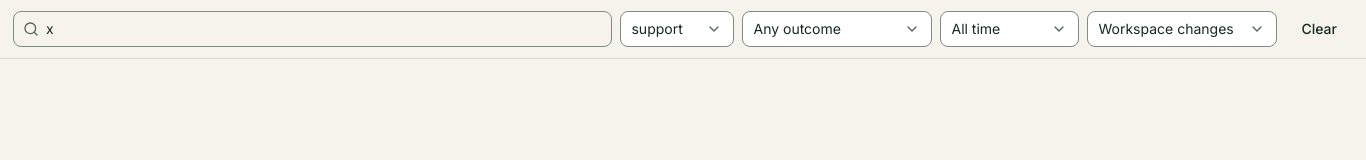
Test: ActivityFilters › clear empties the search and the URL
The image size is (1366, 160).
Click the button "Clear" at (1319, 29), box [1286,11,1353,47]
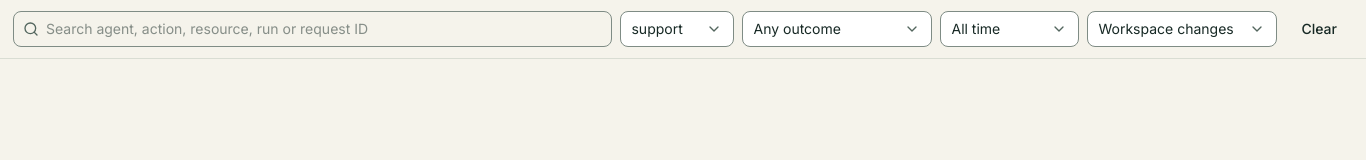
Now the search field named "Search activity" is empty, box [46,19,602,39]
